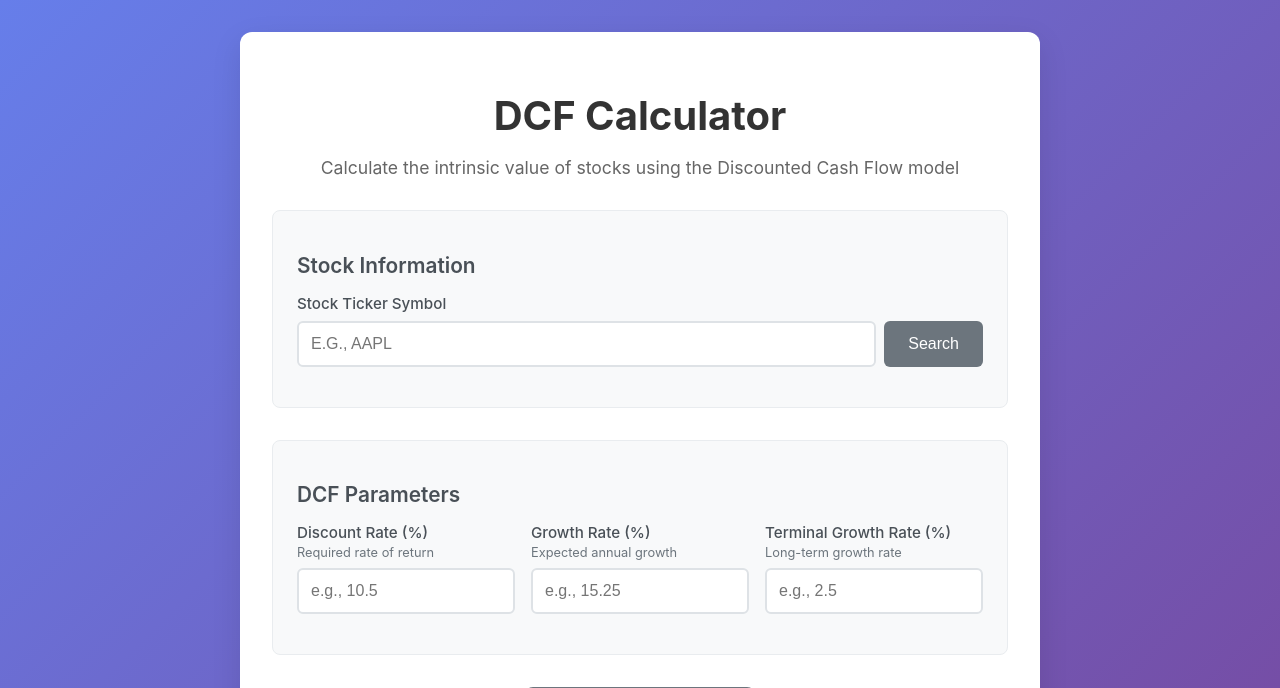
DCFCalculator › Input Formatting › limits ticker length to 5 characters
Type "TOOLONG" into the field labelled "Stock Ticker Symbol" at (587, 344), box x1=297 y1=321 x2=876 y2=367
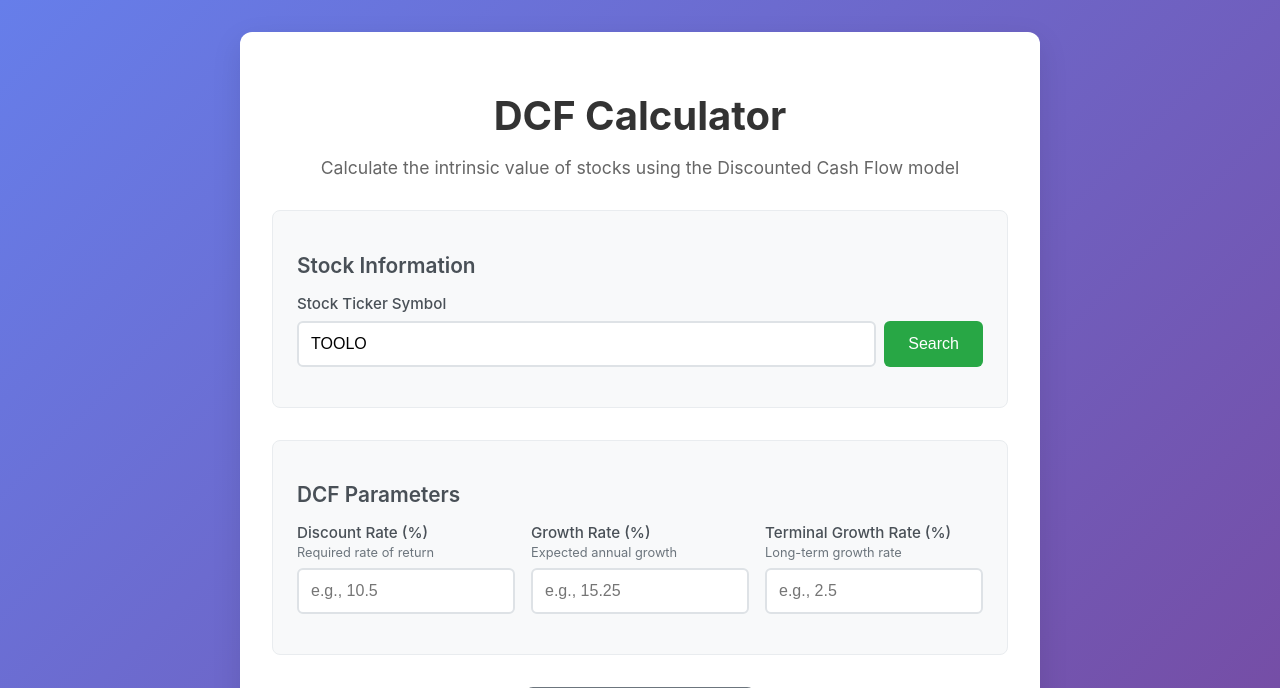
Expected: the field labelled "Stock Ticker Symbol" holds "TOOLO", x1=297 y1=321 x2=876 y2=367
